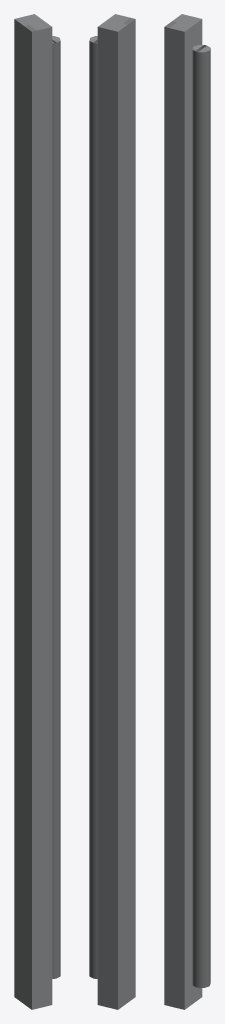
The picture shows the model from 3 angles, left to right: view 1: azimuth 30°, elevation 25°; view 2: azimuth 150°, elevation 25°; view 3: azimuth 330°, elevation 25°; orthographic projection.
Size of the model in its own units: 0.036 by 0.92 by 0.03.
